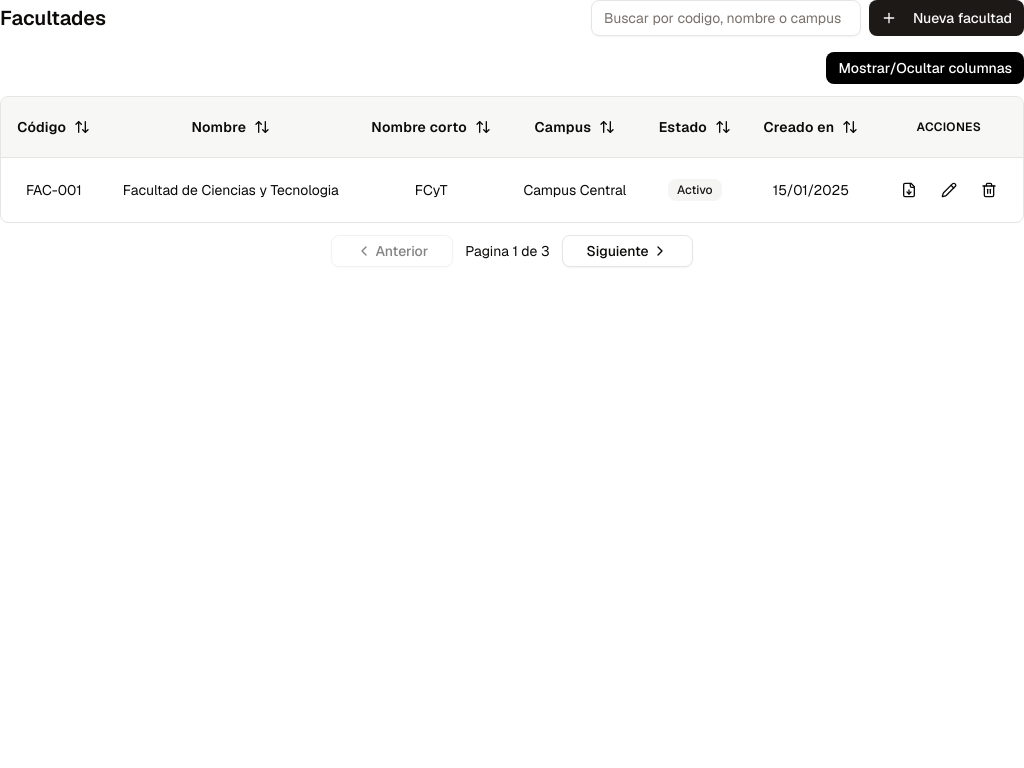
Test: FacultyListPage interactions › opens the delete confirmation dialog showing the faculty details
The width and height of the screenshot is (1024, 768).
Expected: the text "Facultad de Ciencias y Tecnologia" is shown, [122, 180, 339, 200]
Abrimos el dialogo de confirmacion haciendo clic en el boton.
Step 1. Click the button titled "eliminar" → point(989, 190), box [971, 172, 1007, 208]
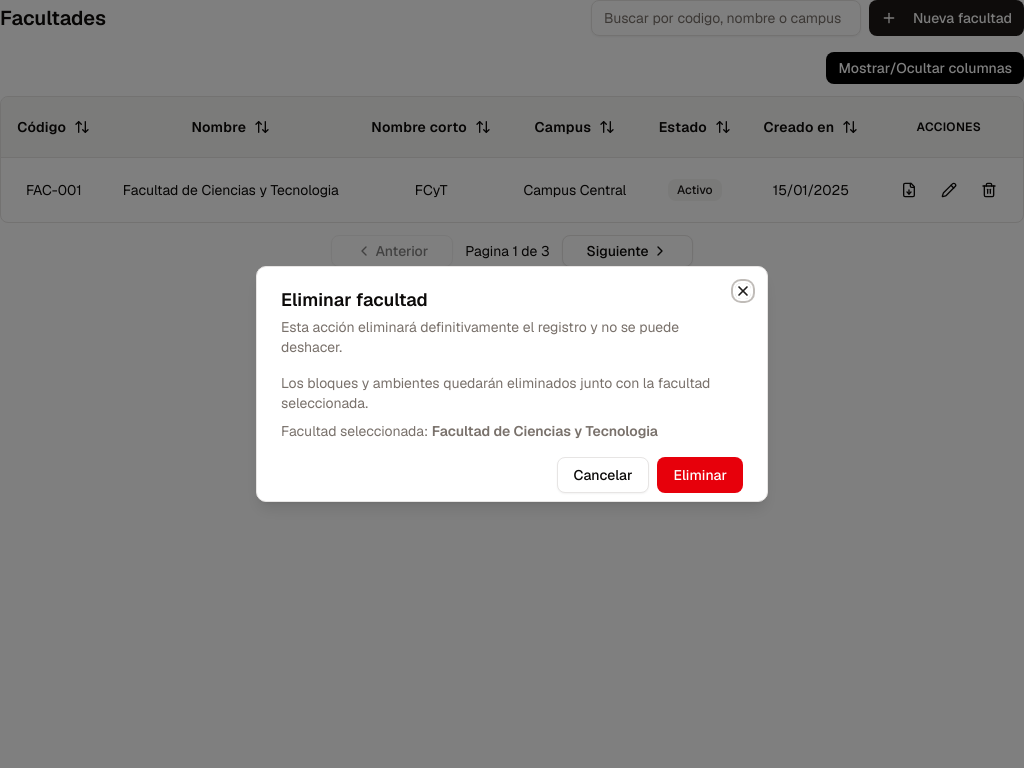
Expected: the heading "Eliminar facultad" is shown, [281, 288, 428, 311]
Expected: the text "Facultad de Ciencias y Tecnologia" is shown, [432, 422, 658, 440]
